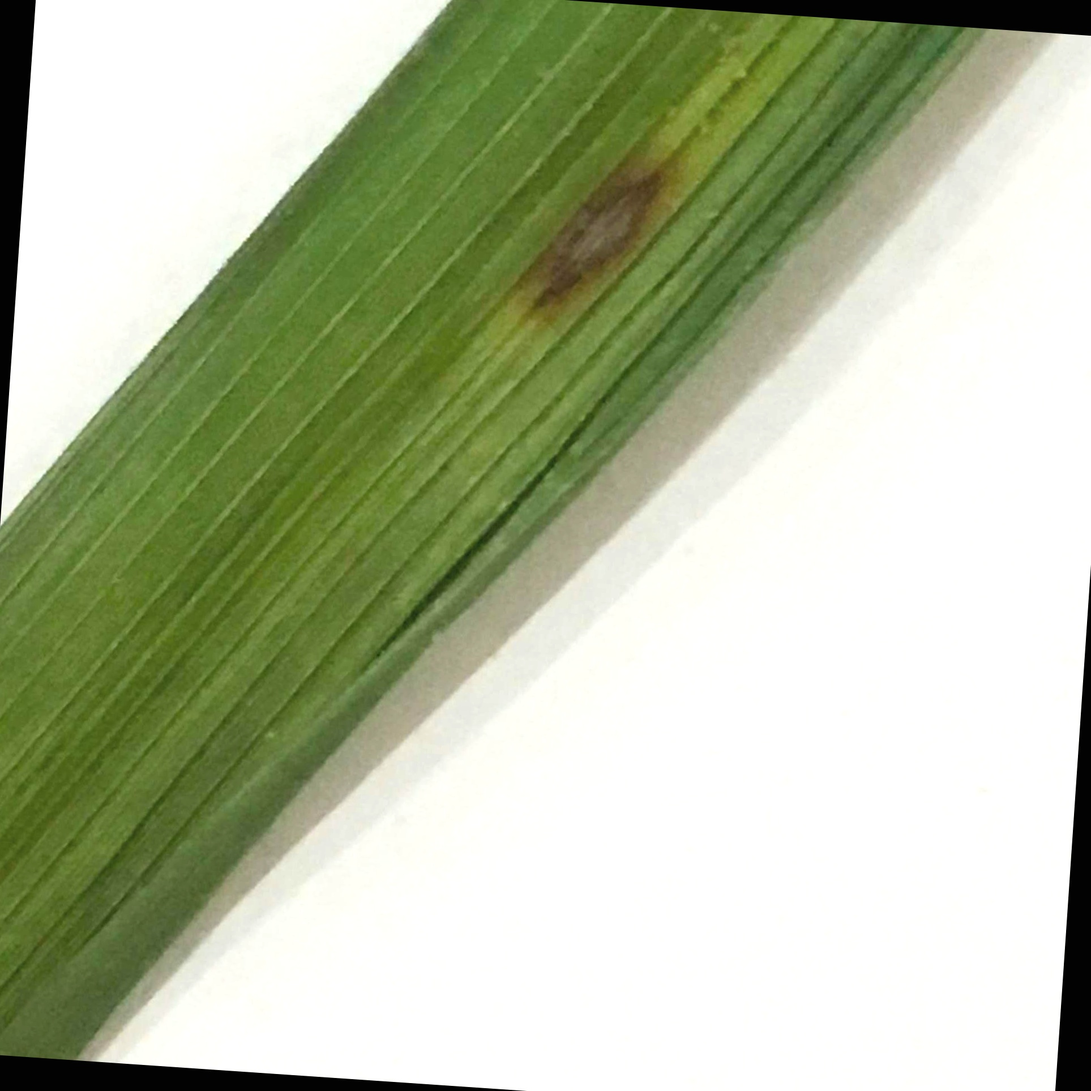Brown_Spot: (518, 99, 678, 343)
